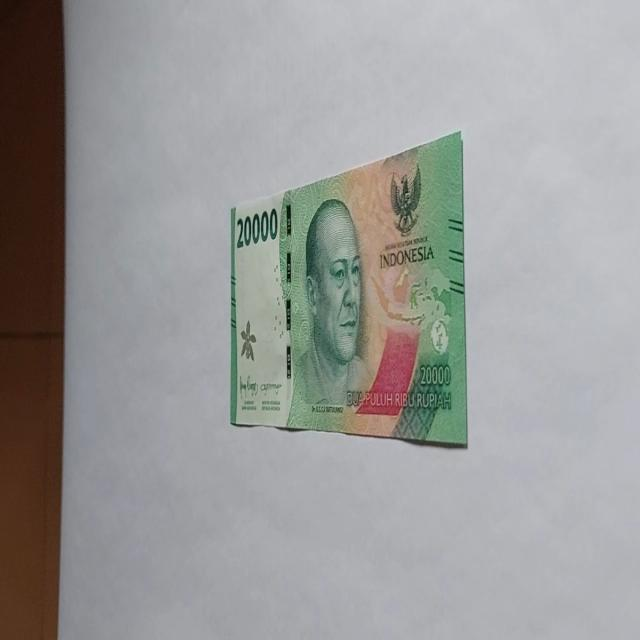dua puluh ribu rupiah: (228, 129, 468, 448), (285, 196, 375, 431)
